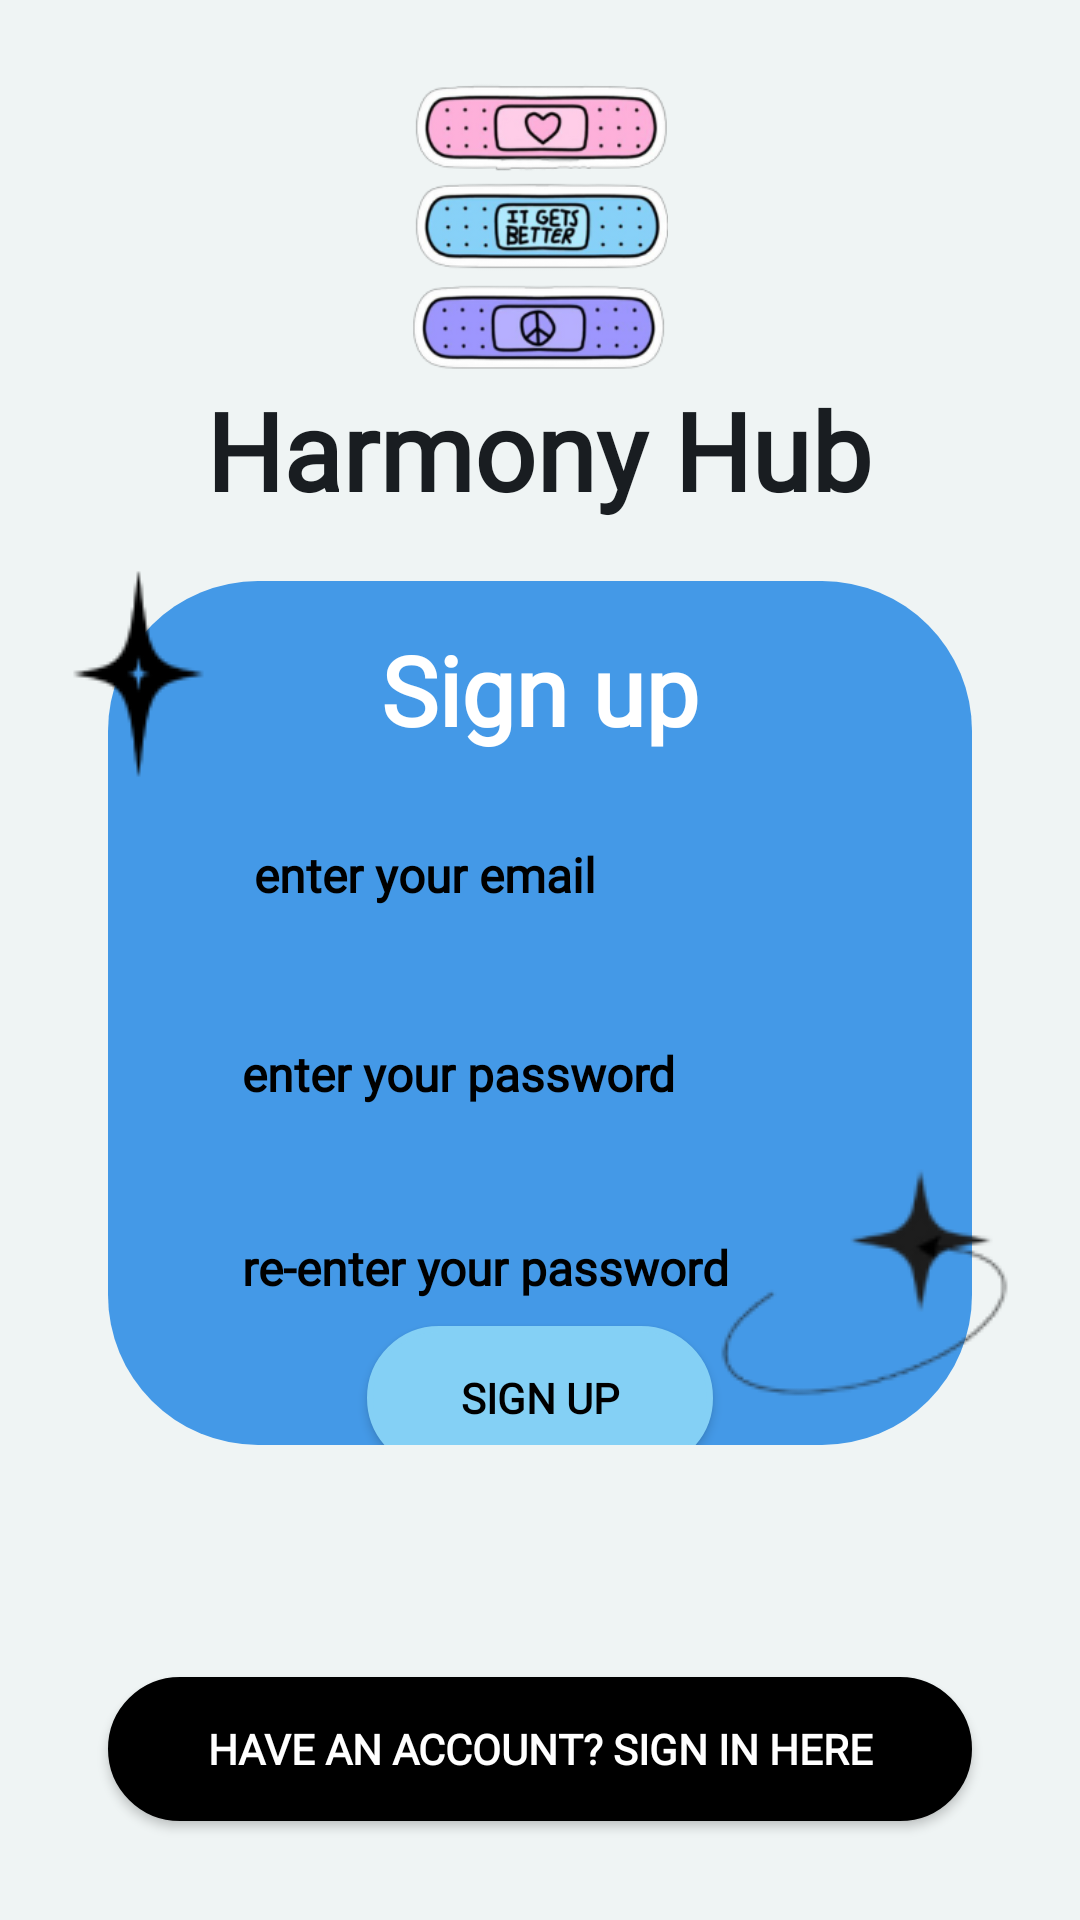

Named icons in this screenshot (1080px x 1920px) and their bounding boxes, box(x1, y1, x2, y2):
star: box(74, 571, 263, 803), box(650, 1092, 1007, 1445)
